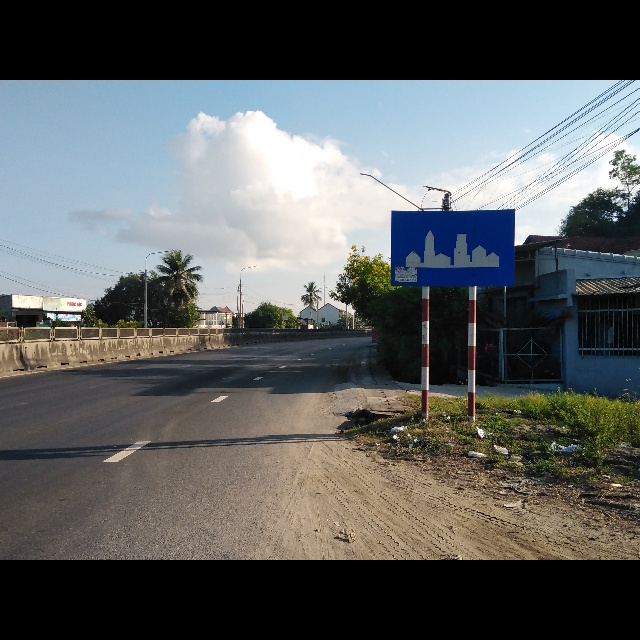Khu đông dân cư: (391, 210, 516, 290)
